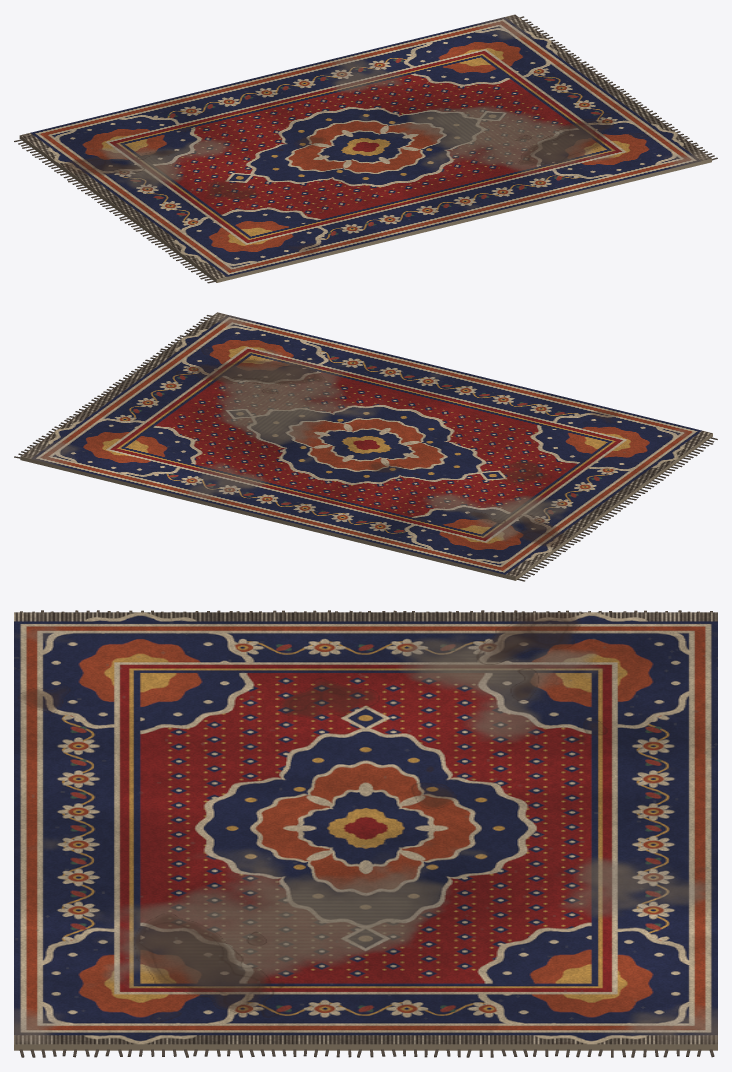
The model's file is lib_rug.obj.
The picture shows the model from 3 angles, top to bottom: view 1: azimuth 30°, elevation 25°; view 2: azimuth 150°, elevation 25°; view 3: azimuth 270°, elevation 25°; orthographic projection. The views are drawn at different scales.
Visible parts, largest first — view 1: lib_rug; view 2: lib_rug; view 3: lib_rug.
Boxes of the visible parts, left/top/right/bottom form: lib_rug: left=14, top=14, right=717, bottom=283; lib_rug: left=14, top=312, right=717, bottom=581; lib_rug: left=14, top=610, right=717, bottom=1057.
Size of the model in its own units: 3 by 0.02 by 2.
1 material, 1 textured.
